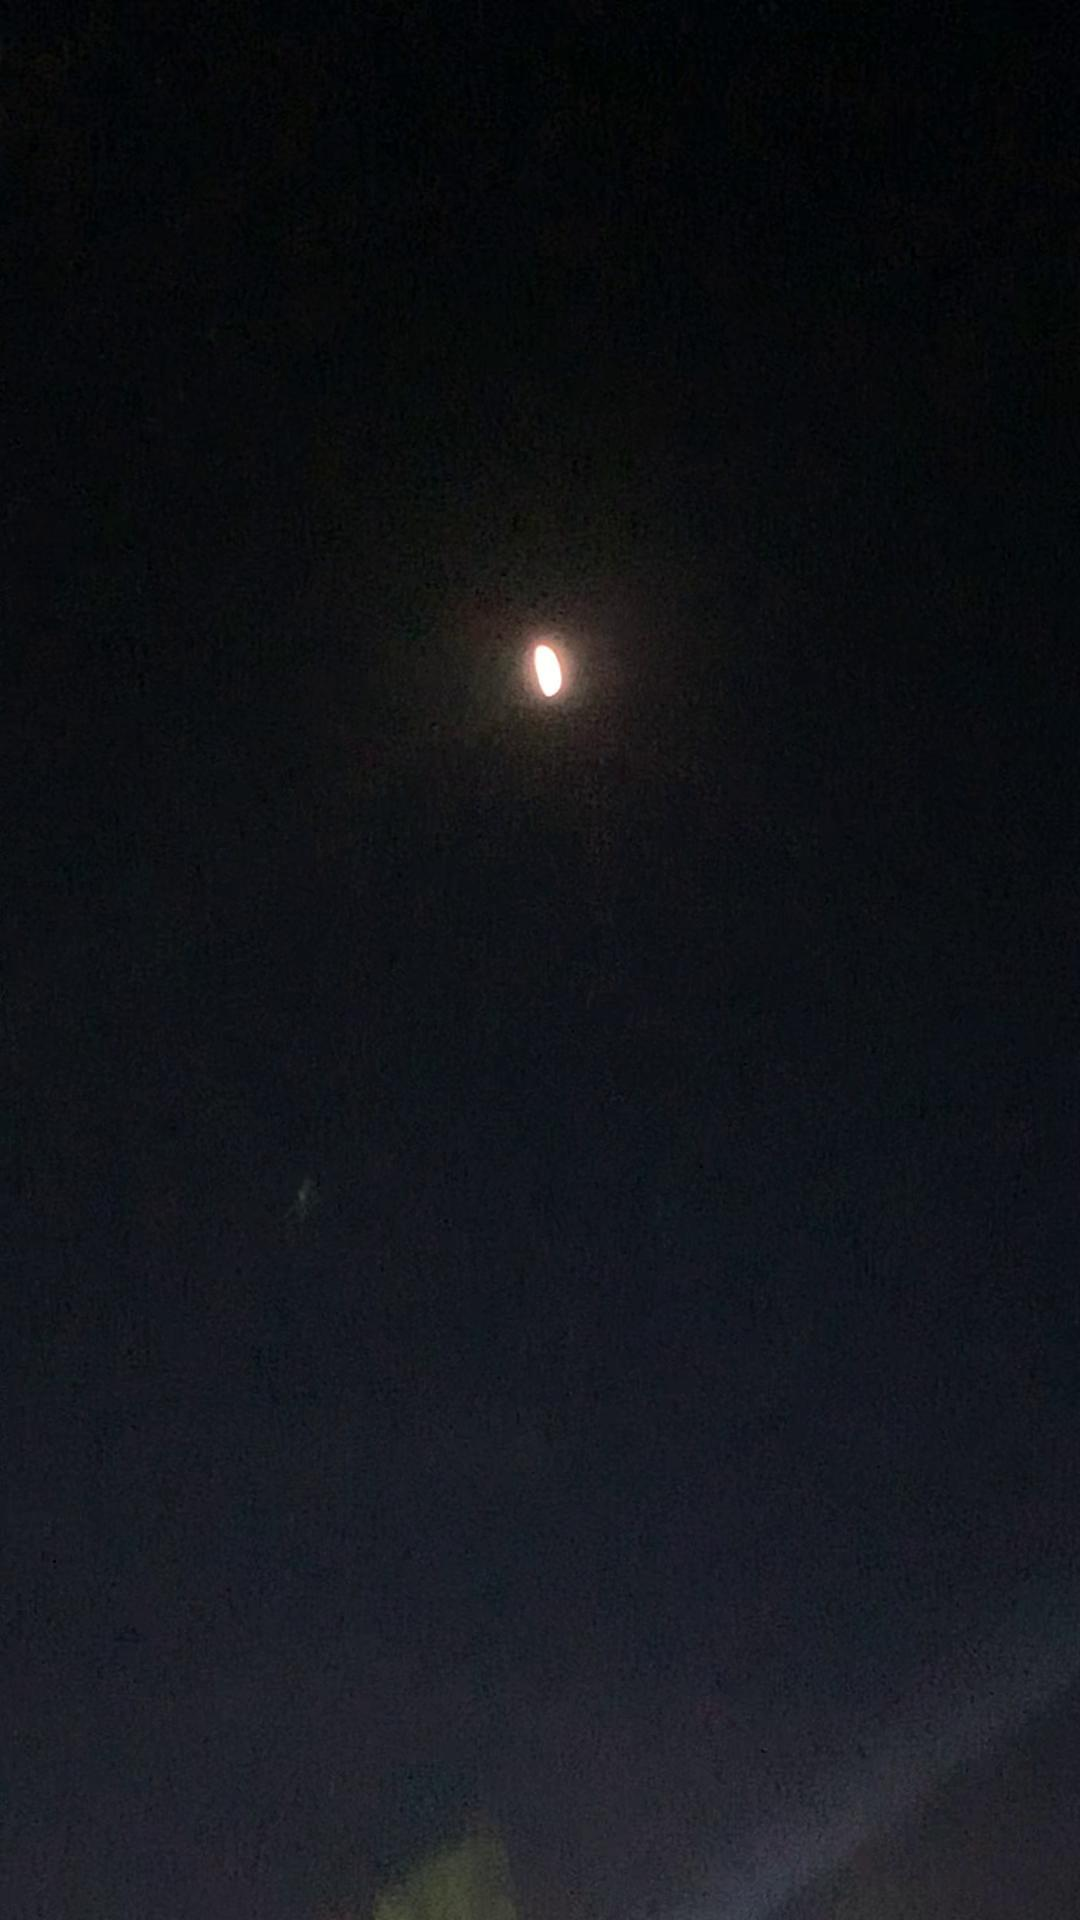moon: (513, 618, 588, 698)
